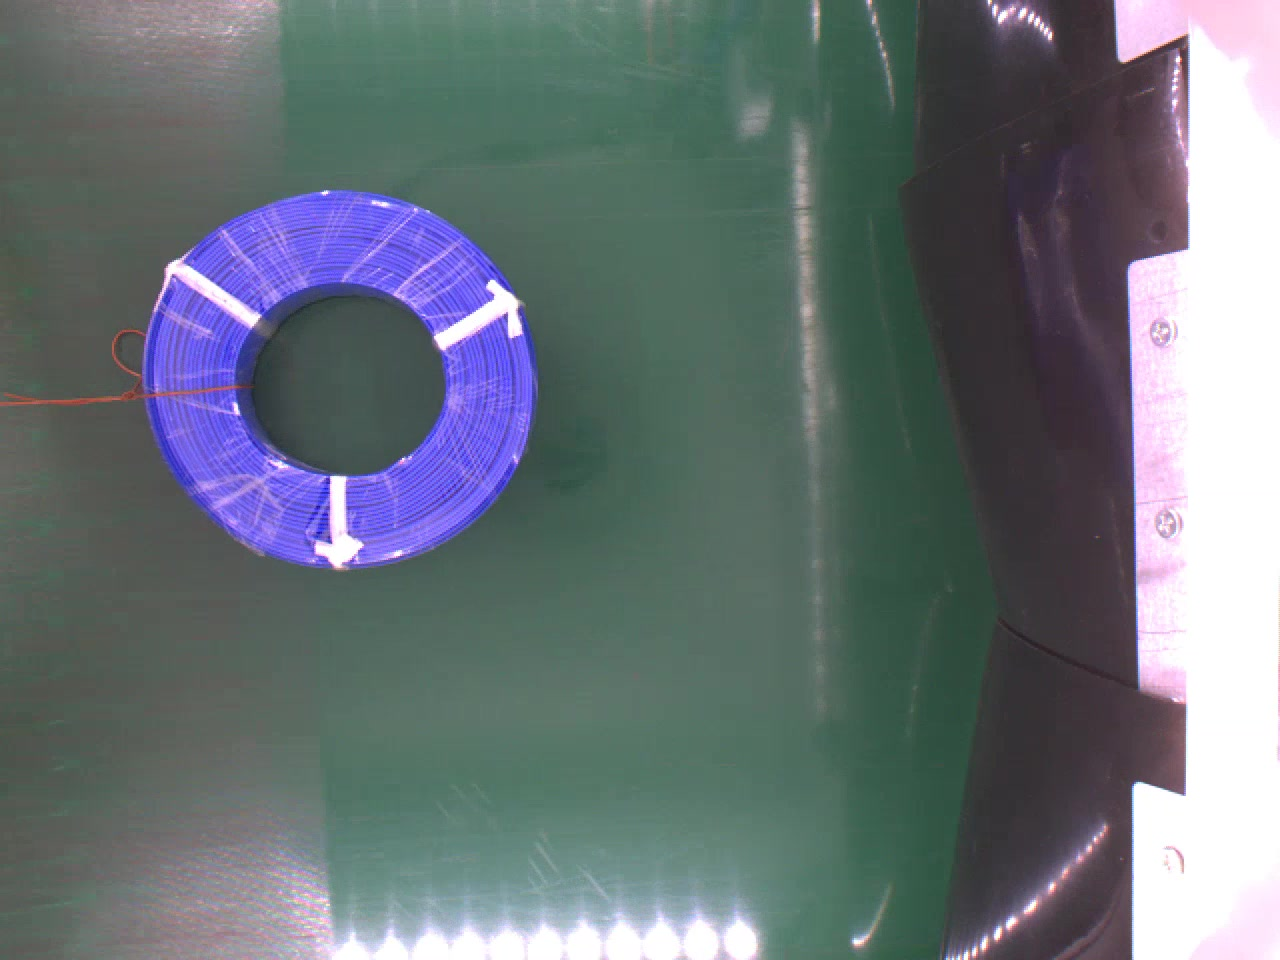blue: (143, 186, 535, 564)
